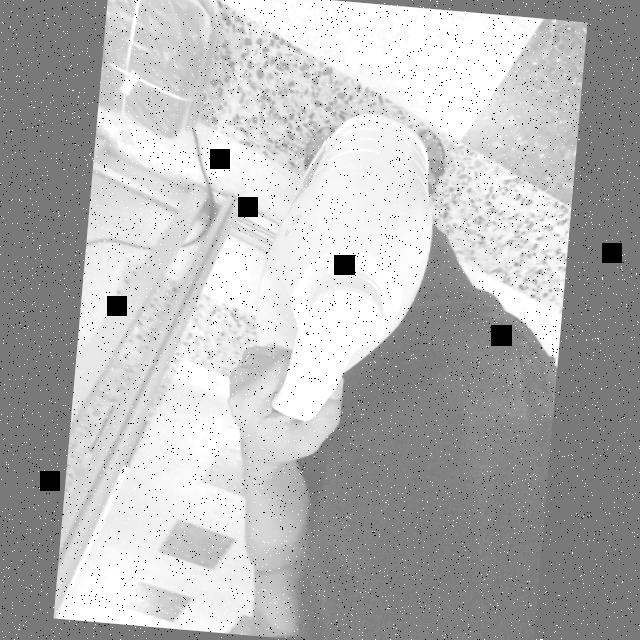chemical_plastic_gallon: (240, 102, 445, 432)
